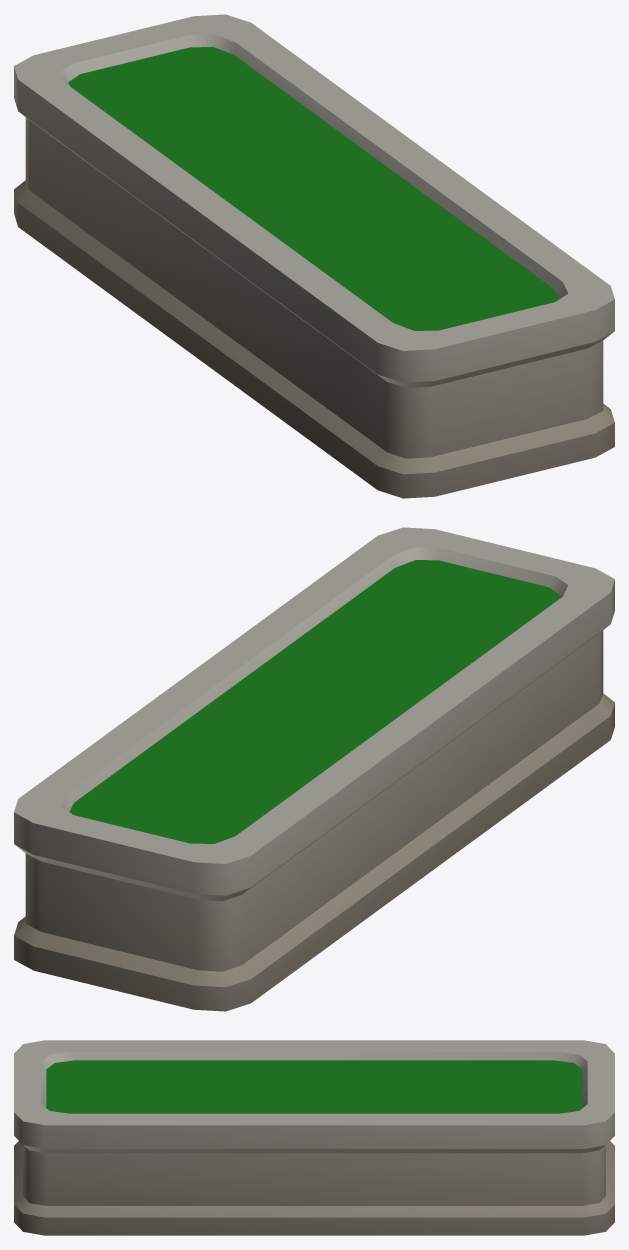
Rendered from FlowerPlacet_5_1_B.glb.
The picture shows the model from 3 angles, top to bottom: view 1: azimuth 30°, elevation 25°; view 2: azimuth 150°, elevation 25°; view 3: azimuth 270°, elevation 25°; orthographic projection. The views are drawn at different scales.
Visible parts, largest first — view 1: FlowerPlacet_5_1_B; view 2: FlowerPlacet_5_1_B; view 3: FlowerPlacet_5_1_B.
Boxes of the visible parts, x1,y1,x2,y2 form: FlowerPlacet_5_1_B: (14, 14, 614, 498); FlowerPlacet_5_1_B: (14, 527, 614, 1011); FlowerPlacet_5_1_B: (14, 1040, 614, 1235).
Size of the model in its own units: 1.43 by 0.8638 by 4.26.
Materials: 1 (1 with a texture image).
